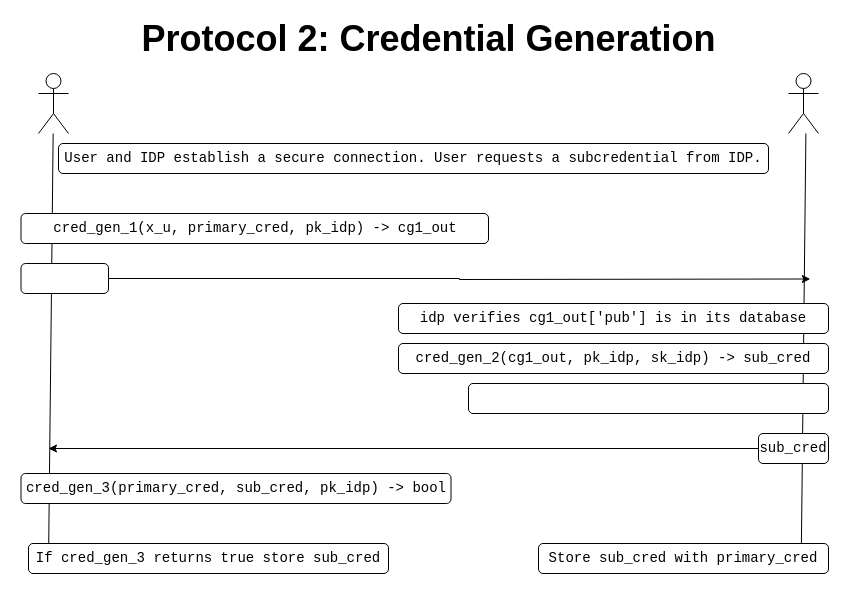
This 852x591 diagram has some shape labels left out. Here are the shapes that lost their labels. From the top down, the centre of each, then its label:
At (x=53, y=103): "User (Prover)".
At (x=803, y=103): "IDP (Issuer)".
At (x=64, y=278): "cg1_out".
At (x=648, y=398): "if len(sub_cred)== 0: zkp_cg1 failed".
